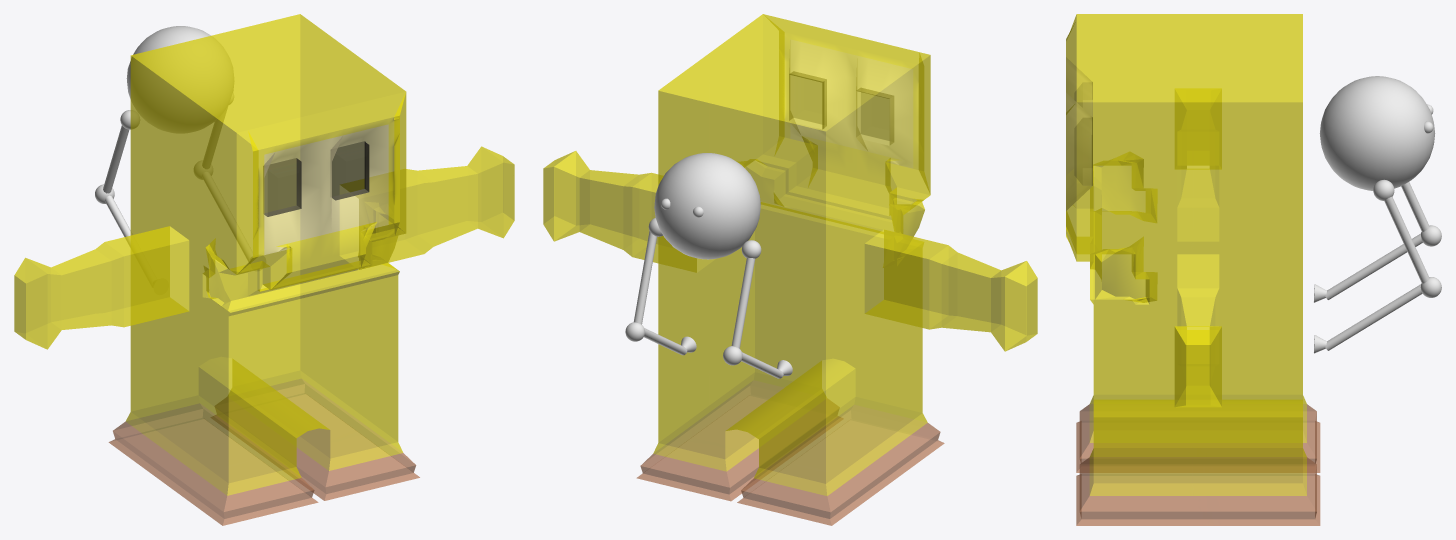
Rendered from CarreromonIngMecatronico.fbx.
The picture shows the model from 3 angles, left to right: view 1: azimuth 30°, elevation 25°; view 2: azimuth 150°, elevation 25°; view 3: azimuth 270°, elevation 25°; orthographic projection. The views are drawn at different scales.
Visible parts, largest first — view 1: Carreromon, Sphere001, Cylinder004, Cylinder002; view 2: Carreromon, Sphere001, Cylinder002, Cylinder001; view 3: Carreromon, Sphere001, Cylinder004, Cylinder003, Cylinder001, Cylinder002.
Part boxes in pixels (x1,y1,x2,y2): Carreromon: [14, 14, 514, 525]; Sphere001: [126, 26, 233, 133]; Cylinder004: [202, 172, 252, 261]; Cylinder002: [103, 125, 129, 193]; Carreromon: [543, 14, 1037, 525]; Sphere001: [654, 153, 760, 259]; Cylinder002: [731, 258, 755, 348]; Cylinder001: [633, 231, 656, 324]; Carreromon: [1066, 14, 1320, 525]; Sphere001: [1319, 76, 1435, 190]; Cylinder004: [1325, 284, 1422, 350]; Cylinder003: [1325, 233, 1422, 299]; Cylinder001: [1384, 196, 1429, 283]; Cylinder002: [1401, 182, 1429, 231].
Bounding box in the file's own units: 130 × 98.73 × 80.79.
1 material, 1 textured.
